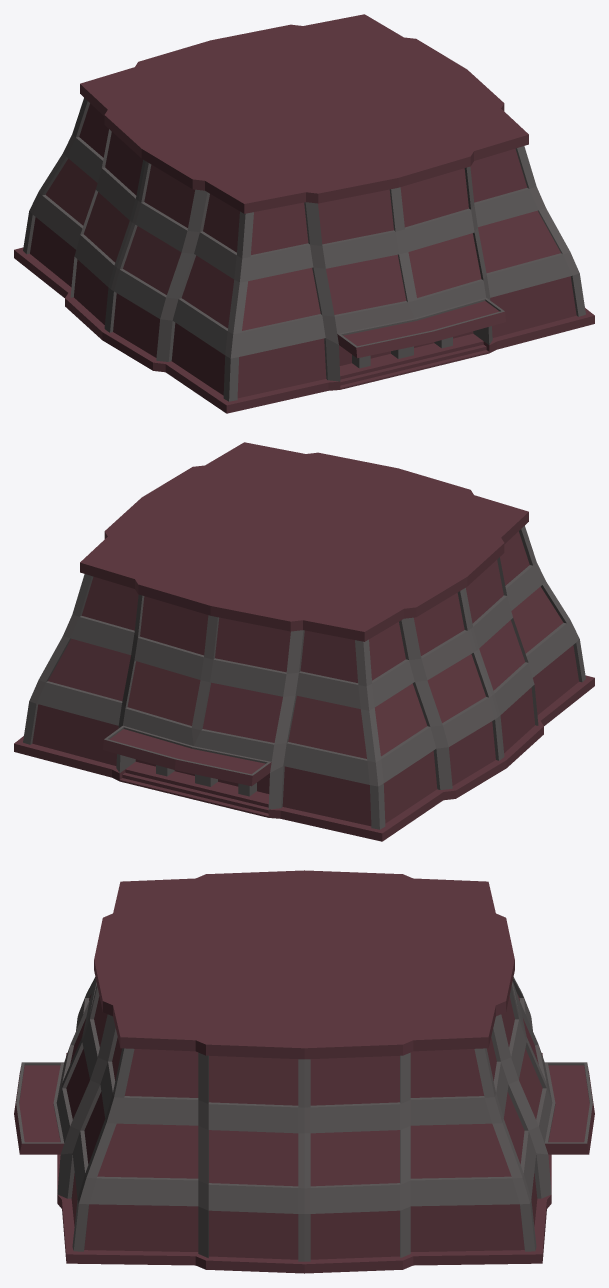
The model's file is skyscraper2-part-bottom.fbx.
3 views of the same model, one above another, from view 1: azimuth 30°, elevation 25°; view 2: azimuth 150°, elevation 25°; view 3: azimuth 270°, elevation 25° (orthographic). The views are drawn at different scales.
Visible parts, largest first — view 1: skyscraper2-part-bottom; view 2: skyscraper2-part-bottom; view 3: skyscraper2-part-bottom.
Boxes of the visible parts, x1,y1,x2,y2 form: skyscraper2-part-bottom: [14, 14, 594, 413]; skyscraper2-part-bottom: [14, 442, 594, 841]; skyscraper2-part-bottom: [14, 870, 594, 1273].
Size of the model in its own units: 25.6 by 11 by 28.45.
